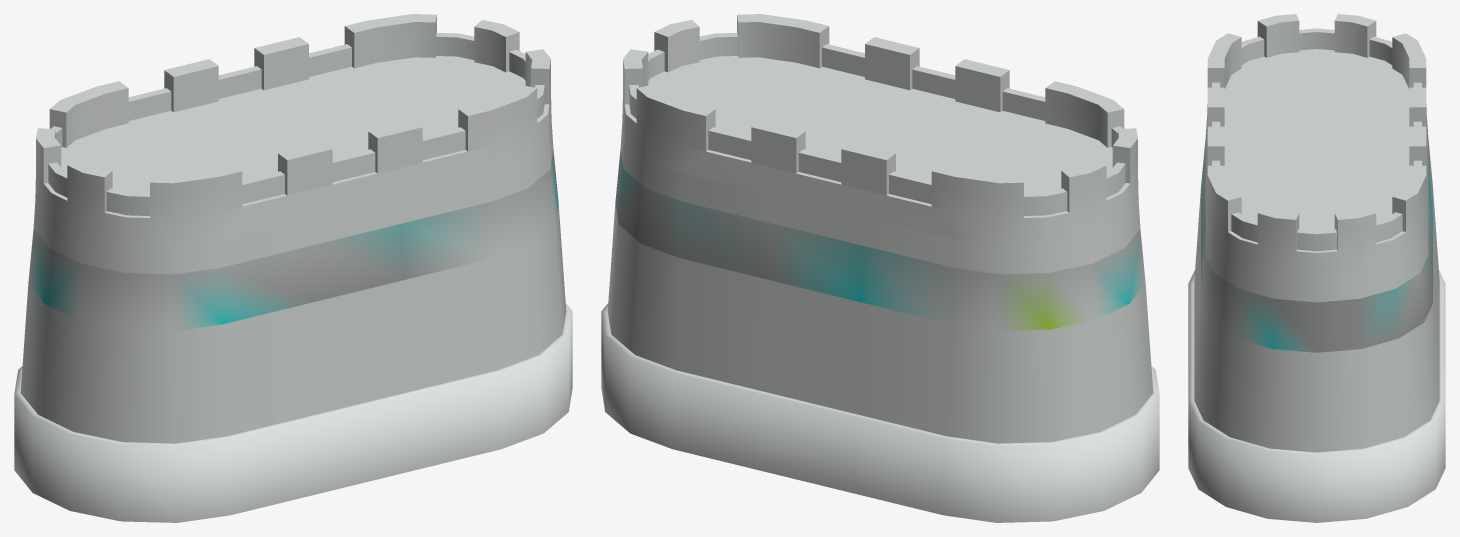
3 renders of one model, left to right at view 1: azimuth 30°, elevation 25°; view 2: azimuth 150°, elevation 25°; view 3: azimuth 270°, elevation 25°, orthographic. The views are drawn at different scales.
Visible parts, largest first — view 1: G:\FFXIV-MapTools\exports\s1f4\bg\ffxiv\sea_s1\fld\s1f4\bgpa (×5); view 2: G:\FFXIV-MapTools\exports\s1f4\bg\ffxiv\sea_s1\fld\s1f4\bgpa (×5); view 3: G:\FFXIV-MapTools\exports\s1f4\bg\ffxiv\sea_s1\fld\s1f4\bgpa (×5).
Part boxes in pixels (x1=…): G:\FFXIV-MapTools\exports\s1f4\bg\ffxiv\sea_s1\fld\s1f4\bgpa (×5): x1=14, y1=14, x2=572, y2=522; G:\FFXIV-MapTools\exports\s1f4\bg\ffxiv\sea_s1\fld\s1f4\bgpa (×5): x1=601, y1=14, x2=1159, y2=522; G:\FFXIV-MapTools\exports\s1f4\bg\ffxiv\sea_s1\fld\s1f4\bgpa (×5): x1=1188, y1=14, x2=1445, y2=522.
Bounding box in the file's own units: 23.12 × 14 × 11.12.
